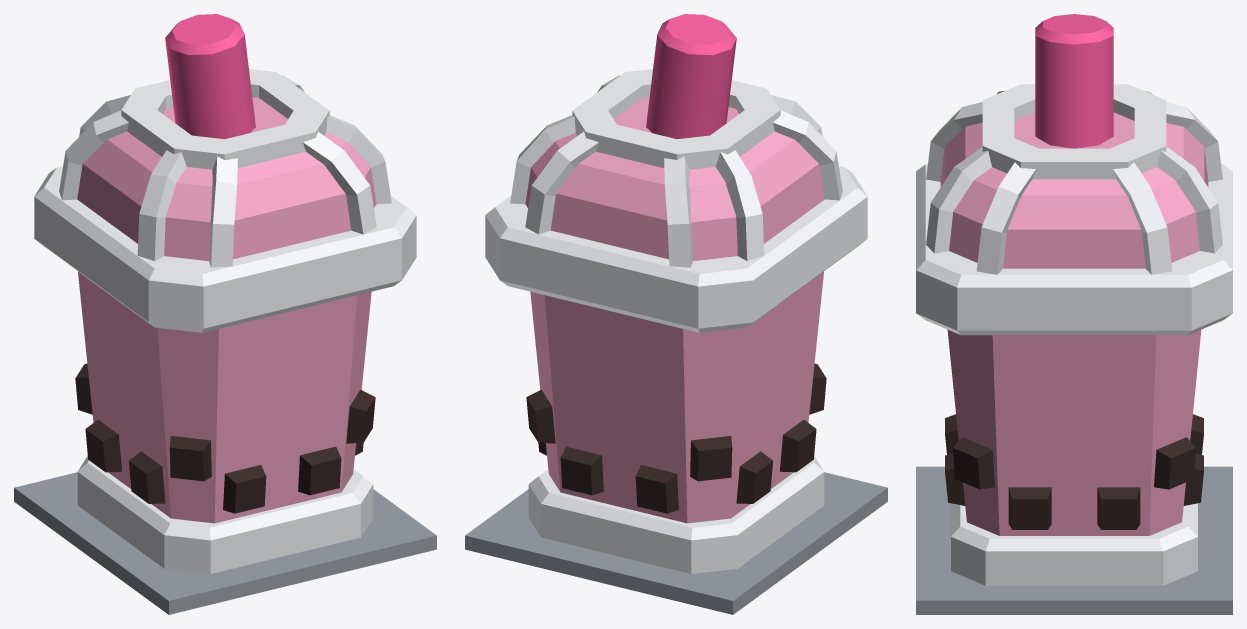
File: bubble-tea_3d_v1.glb
The picture shows the model from 3 angles, left to right: view 1: azimuth 30°, elevation 25°; view 2: azimuth 150°, elevation 25°; view 3: azimuth 270°, elevation 25°; orthographic projection. The views are drawn at different scales.
Visible parts, largest first — view 1: Body, Frame, Frame2, Root, Accent, Accent2; view 2: Body, Frame, Frame2, Root, Accent, Accent2; view 3: Body, Frame, Frame2, Root, Accent2, Accent.
Part boxes in pixels (box(x1,y1,x2,y2)): Body: box(77, 97, 376, 523); Frame: box(34, 166, 416, 573); Frame2: box(59, 69, 391, 267); Root: box(14, 472, 436, 614); Accent: box(75, 363, 375, 513); Accent2: box(165, 14, 255, 139); Body: box(525, 97, 824, 523); Frame: box(485, 166, 867, 573); Frame2: box(510, 69, 842, 267); Root: box(465, 472, 887, 614); Accent: box(526, 363, 826, 513); Accent2: box(646, 14, 736, 139); Body: box(940, 112, 1208, 535); Frame: box(916, 163, 1232, 585); Frame2: box(926, 84, 1222, 274); Root: box(916, 466, 1232, 614); Accent2: box(1035, 14, 1113, 148); Accent: box(945, 414, 1203, 529).
Bounding box in the file's own units: 1 × 1.8 × 1.
